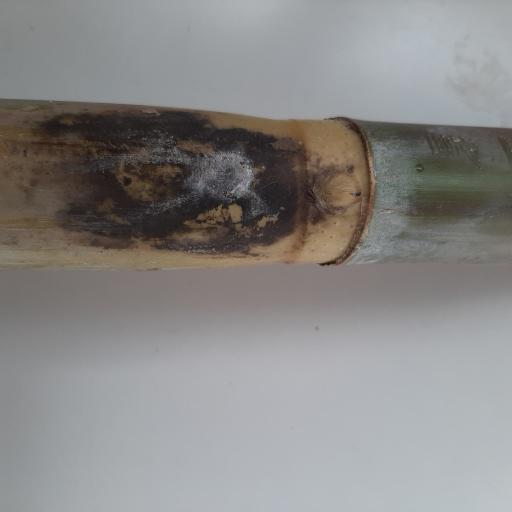Bud: (312, 168, 363, 212)
